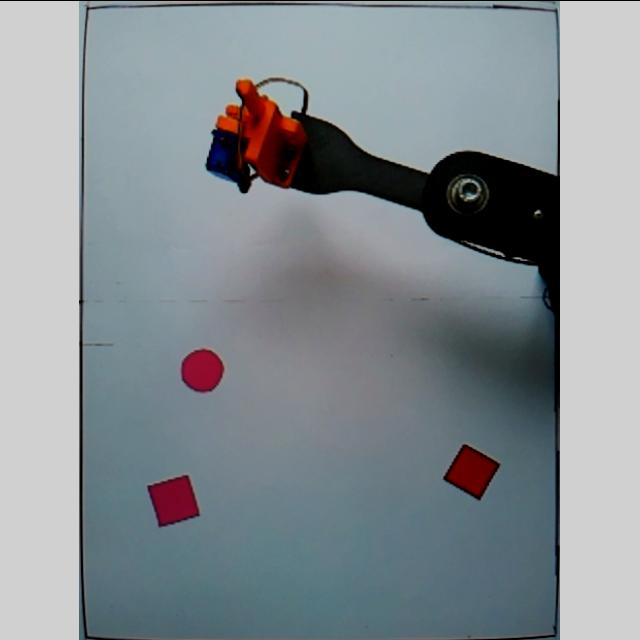pinkCircle: (179, 348, 227, 392)
pinkSquare: (146, 472, 202, 528)
redSquare: (443, 442, 503, 502)
